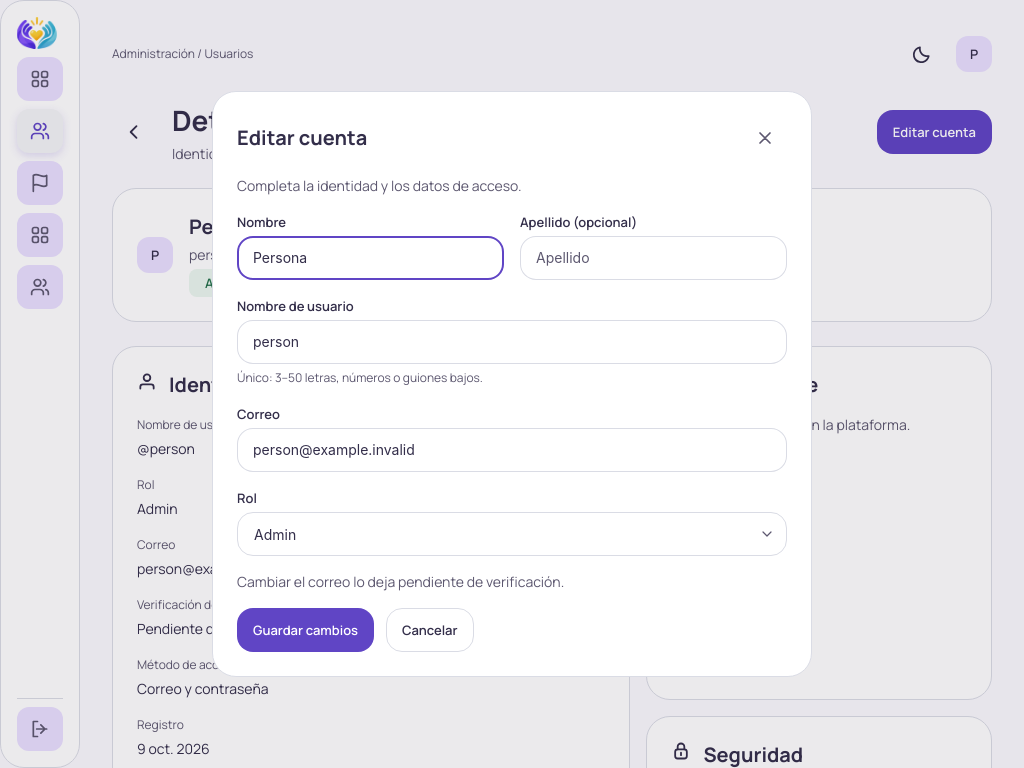
Test: editar: último admin y fallo de lectura se conservan como errores, sin éxito ficticio
Expected: the field showing "Persona" is shown, [253, 248, 488, 268]
Select "Usuario" in the dropdown labelled "Rol": (512, 534) [237, 512, 787, 556]
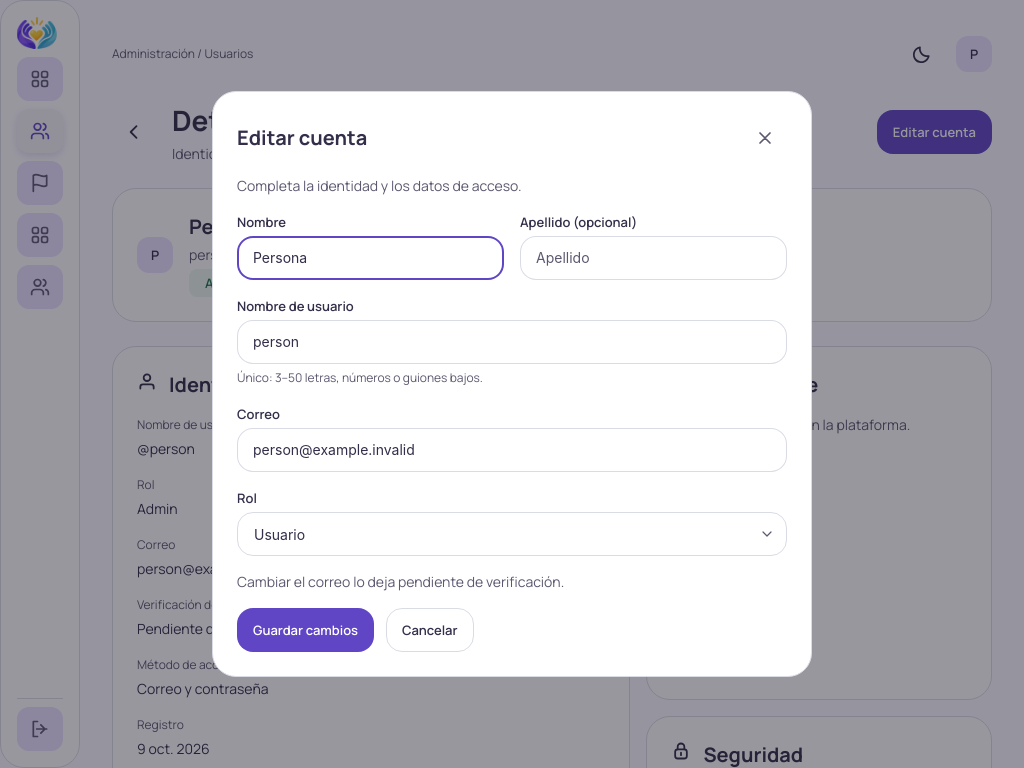
Click the button "Guardar cambios": (305, 630) [237, 608, 374, 652]
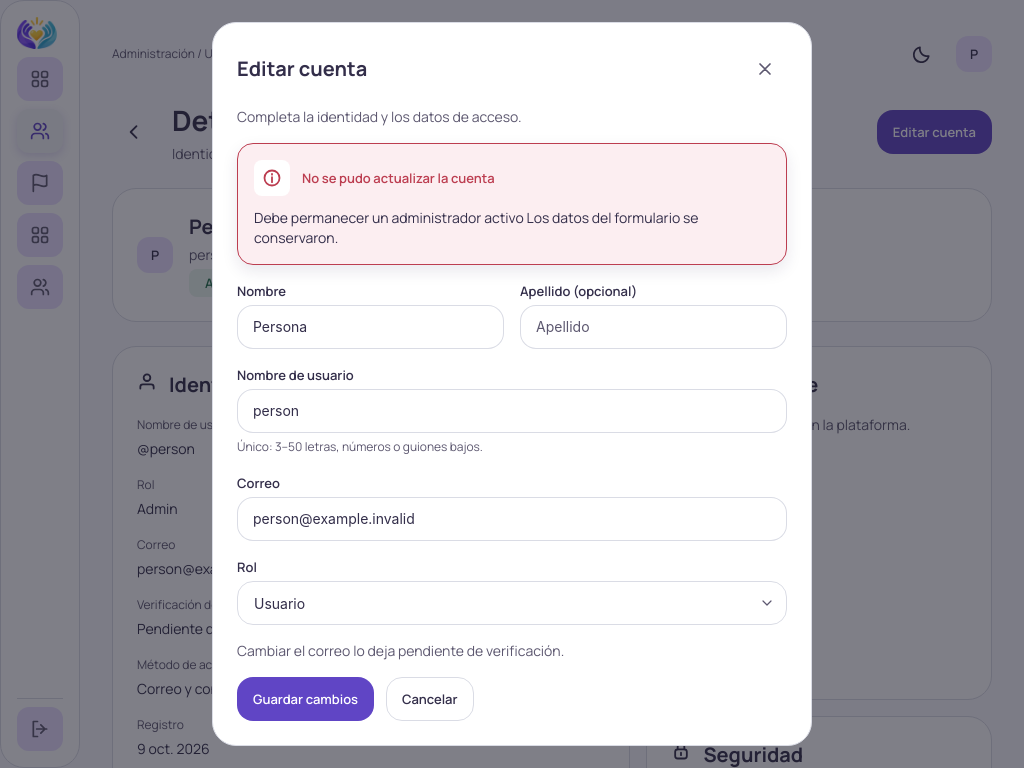
Expected: the heading "Editar cuenta" is shown, [237, 55, 367, 82]
Expected: the text "Debe permanecer" is shown, [254, 208, 524, 227]
